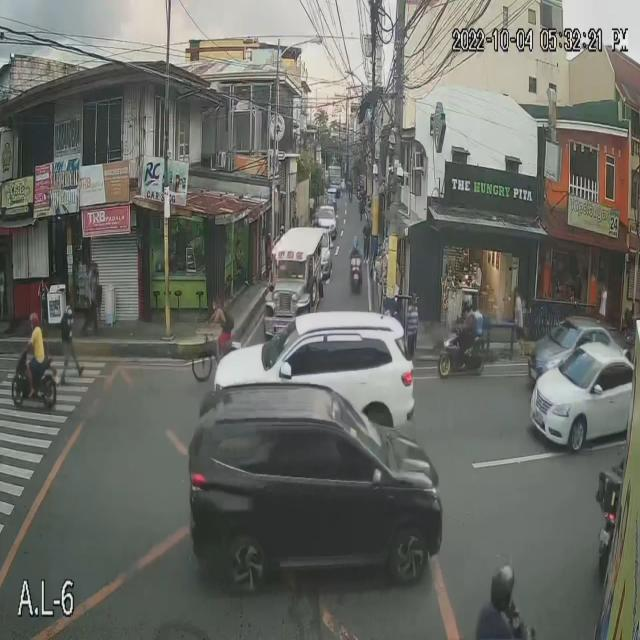Full-Faced: (488, 554, 518, 616), (455, 291, 476, 326), (349, 235, 362, 250)
Half-Faced: (29, 311, 45, 335)
